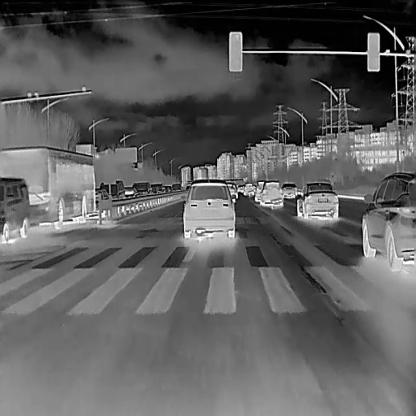car: (361, 172, 414, 269), (181, 179, 235, 239), (296, 181, 338, 218), (87, 188, 110, 218), (258, 180, 282, 206), (132, 182, 149, 198), (253, 180, 265, 202), (281, 182, 297, 198), (227, 182, 237, 202), (123, 185, 137, 199), (149, 182, 163, 196), (242, 182, 255, 196), (162, 184, 172, 194), (171, 183, 182, 191), (238, 184, 245, 192)
truck: (0, 145, 95, 242)
